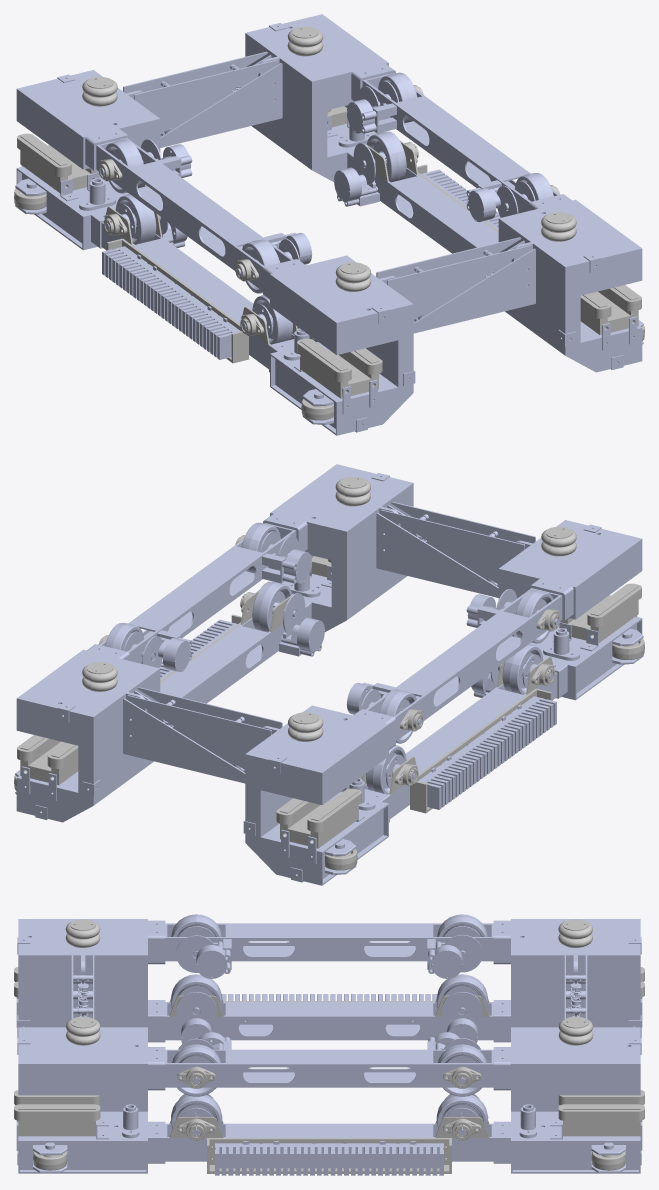
The model's file is CDR Bogie.fbx.
3 views of the same model, one above another, from view 1: azimuth 30°, elevation 25°; view 2: azimuth 150°, elevation 25°; view 3: azimuth 270°, elevation 25° (orthographic). The views are drawn at different scales.
Visible parts, largest first — view 1: mesh_91, mesh_312, mesh_82, mesh_376, mesh_0, mesh_274, mesh_198, mesh_174, mesh_340, mesh_224, mesh_119, mesh_3 (+41 smaller); view 2: mesh_91, mesh_312, mesh_82, mesh_221, mesh_155, mesh_274, mesh_180, mesh_204, mesh_224, mesh_340, mesh_3, mesh_119 (+43 smaller); view 3: mesh_312, mesh_53, mesh_91, mesh_118, mesh_2, mesh_303, mesh_274, mesh_226, mesh_342, mesh_340, mesh_224, mesh_119 (+57 smaller).
Part boxes in pixels (box(x1,y1,x2,y2)): mesh_91: box(96, 138, 293, 291); mesh_312: box(362, 73, 559, 213); mesh_82: box(102, 246, 240, 359); mesh_376: box(564, 248, 642, 372); mesh_0: box(336, 303, 413, 435); mesh_274: box(374, 168, 498, 253); mesh_198: box(160, 63, 282, 147); mesh_174: box(413, 248, 535, 333); mesh_340: box(499, 200, 639, 267); mesh_224: box(246, 15, 385, 82); mesh_119: box(19, 70, 158, 136); mesh_3: box(272, 256, 412, 321); mesh_91: box(365, 588, 562, 741); mesh_312: box(99, 523, 296, 663); mesh_82: box(418, 696, 556, 809); mesh_221: box(16, 698, 94, 822); mesh_155: box(245, 753, 322, 885); mesh_274: box(160, 618, 284, 703); mesh_180: box(376, 513, 498, 597); mesh_204: box(123, 698, 245, 783); mesh_224: box(19, 650, 159, 717); mesh_340: box(273, 465, 412, 532); mesh_3: box(500, 520, 639, 586); mesh_119: box(246, 706, 386, 771); mesh_312: box(165, 1049, 493, 1087); mesh_53: box(165, 1002, 493, 1040); mesh_91: box(165, 923, 493, 961); mesh_118: box(512, 957, 638, 1027); mesh_2: box(20, 957, 146, 1027); mesh_303: box(215, 1143, 443, 1175); mesh_274: box(165, 1123, 493, 1161); mesh_226: box(512, 1063, 638, 1095); mesh_342: box(20, 1063, 146, 1095); mesh_340: box(20, 1027, 146, 1063); mesh_224: box(512, 1027, 638, 1063); mesh_119: box(512, 919, 638, 956).
Size of the model in its own units: 111797 by 41720 by 185420.
